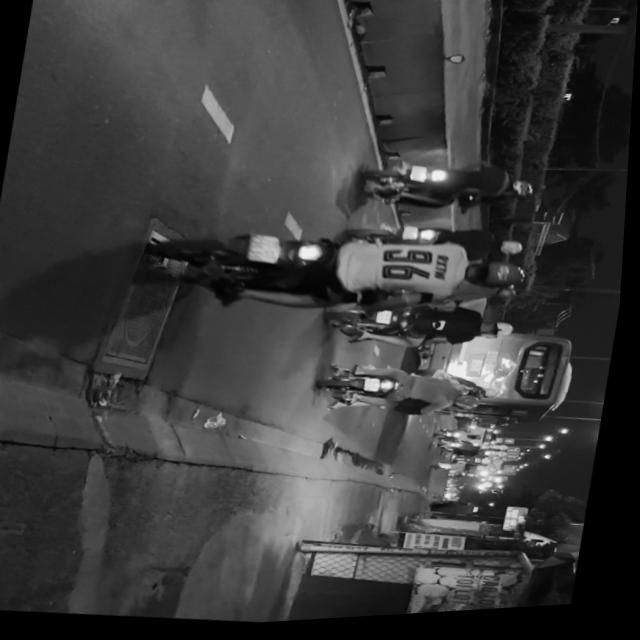helmet: (466, 260, 531, 300), (484, 324, 520, 346), (456, 399, 485, 417), (469, 390, 490, 405)
licenseplate: (134, 196, 540, 349), (309, 355, 496, 437), (326, 293, 523, 366)
nohelmet: (250, 235, 285, 267), (378, 313, 396, 330), (367, 381, 384, 398)
